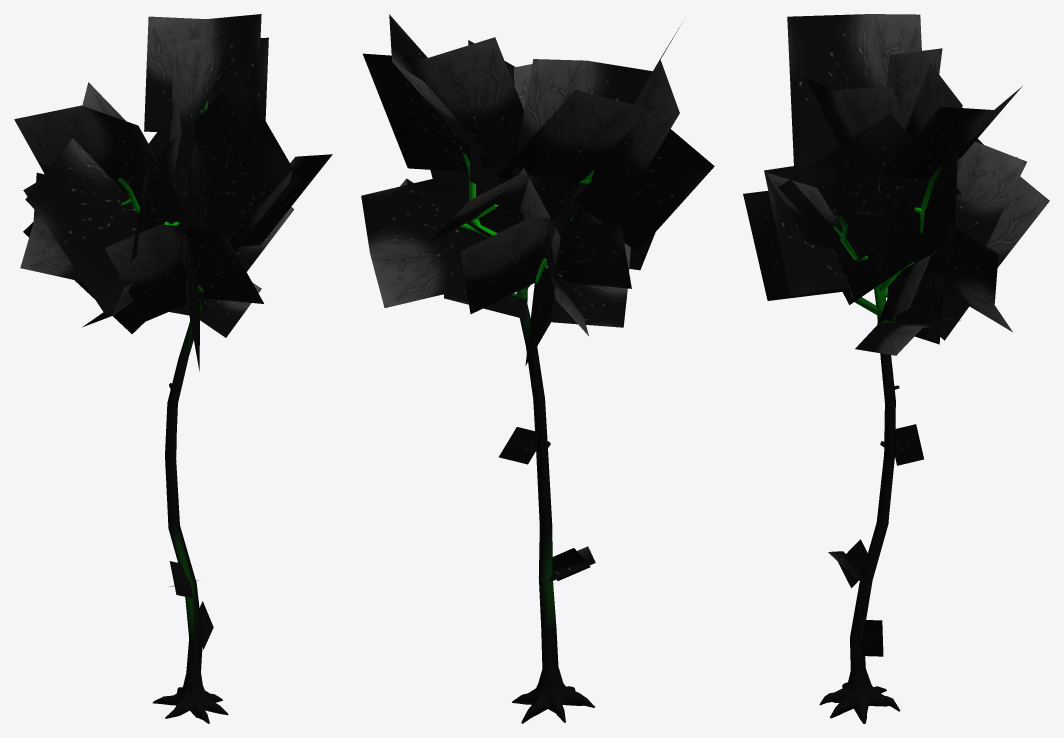
File: hvs_burntforest_birch01.fbx
The picture shows the model from 3 angles, left to right: view 1: azimuth 30°, elevation 25°; view 2: azimuth 150°, elevation 25°; view 3: azimuth 270°, elevation 25°; orthographic projection. The views are drawn at different scales.
Parts seen in each view (by area): view 1: hvs_burntforest_birch01; view 2: hvs_burntforest_birch01; view 3: hvs_burntforest_birch01.
Part boxes in pixels (x1=…): hvs_burntforest_birch01: x1=14, y1=14, x2=332, y2=723; hvs_burntforest_birch01: x1=361, y1=14, x2=714, y2=723; hvs_burntforest_birch01: x1=743, y1=14, x2=1049, y2=723.
Bounding box in the file's own units: 28.29 × 59.09 × 25.08.
